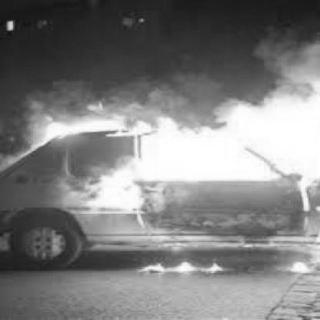Fire: (1, 69, 317, 279)
